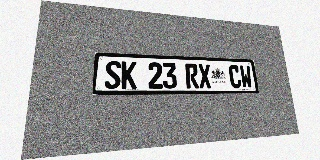2: (148, 62, 163, 89)
3: (162, 63, 177, 89)
C: (228, 65, 242, 88)
K: (121, 61, 137, 89)
R: (185, 63, 199, 88)
S: (104, 61, 121, 89)
W: (239, 65, 253, 88)
X: (198, 64, 212, 88)
